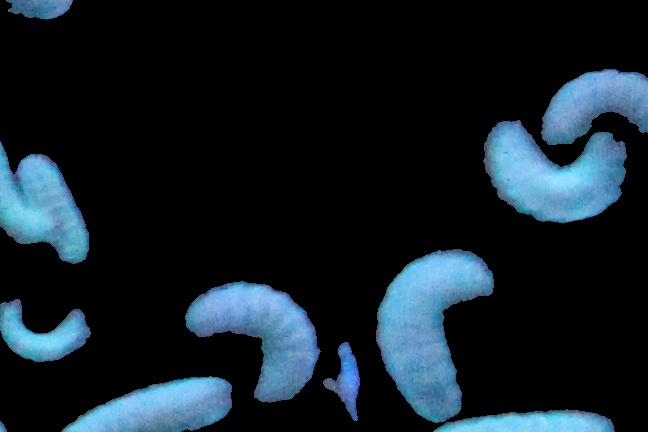larvae: (375, 252, 491, 420), (182, 279, 322, 403), (486, 132, 624, 231), (535, 56, 648, 149), (51, 374, 228, 432), (18, 155, 95, 265), (1, 298, 91, 364), (430, 401, 618, 432), (1, 137, 30, 245)
